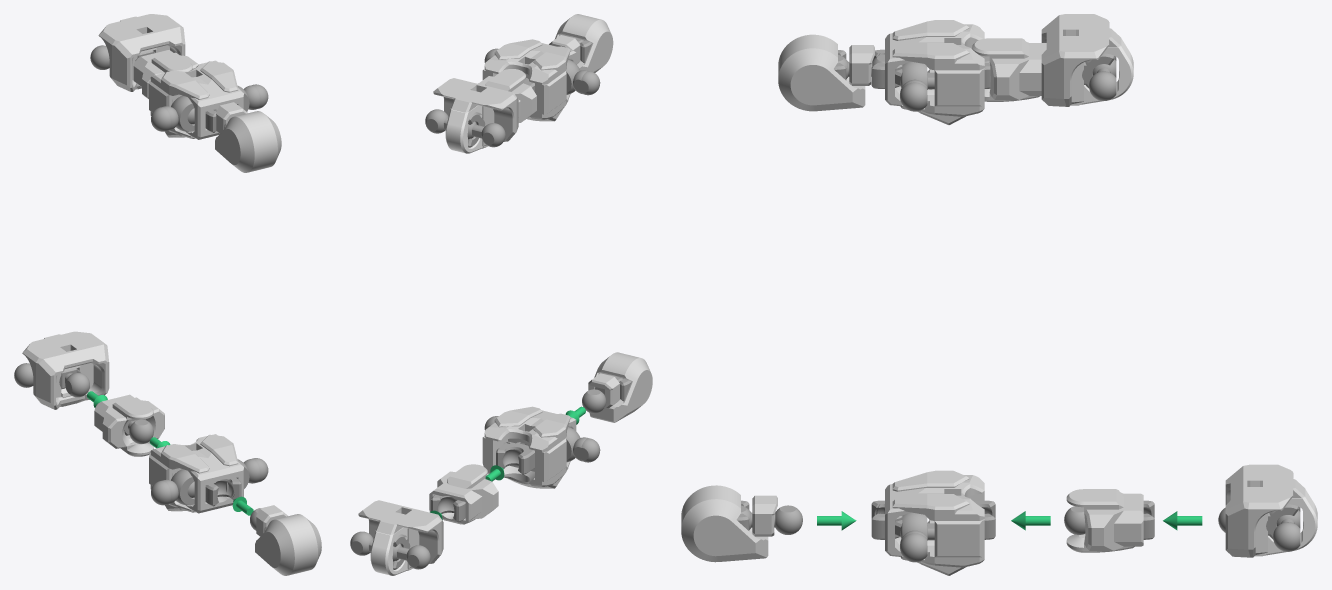
File: attach_body.glb
3 views of the same model, side by side, from view 1: azimuth 30°, elevation 25°; view 2: azimuth 150°, elevation 25°; view 3: azimuth 270°, elevation 25° (orthographic). The views are drawn at different scales.
Visible parts, largest first — view 1: Body1.056, Body1.039, Body17.005, Body1.069, Body1.052, Body17.007, Body1.063, Body17.006, Body1.046, Body17.004, Body1.058, Body1.061 (+11 smaller); view 2: Body1.039, Body1.056, Body1.069, Body17.007, Body17.005, Body1.063, Body1.052, Body17.006, Body17.004, Body1.036, Body1.053, Body3.006 (+13 smaller); view 3: Body1.056, Body1.039, Body1.069, Body1.052, Body17.006, Body17.005, Body1.063, Body17.004, Body1.046, Body3.004, Body3.006, Body17.007 (+13 smaller).
Boxes of the visible parts, x1,y1,x2,y2 form: Body1.056: (22,331,109,409); Body1.039: (98,14,185,91); Body17.005: (159,62,243,139); Body1.069: (255,514,321,575); Body1.052: (215,111,281,172); Body17.007: (159,436,243,513); Body1.063: (94,394,161,456); Body17.006: (150,434,243,513); Body1.046: (133,50,195,86); Body17.004: (150,60,236,138); Body1.058: (102,400,164,454); Body1.061: (151,469,194,505); Body1.039: (433,78,518,148); Body1.056: (358,500,443,570); Body1.069: (589,352,652,422); Body17.007: (488,406,576,488); Body17.005: (488,39,576,121); Body1.063: (429,464,487,524); Body1.052: (554,14,613,72); Body17.006: (484,408,572,486); Body17.004: (484,39,570,119); Body1.036: (425,109,505,147); Body1.053: (350,531,430,569); Body3.006: (482,436,566,481); Body1.056: (1225,464,1305,557); Body1.039: (1041,14,1121,106); Body1.069: (681,485,768,562); Body1.052: (778,34,865,111); Body17.006: (885,470,984,567); Body17.005: (885,22,984,124); Body1.063: (1066,489,1143,552); Body17.004: (893,20,984,116); Body1.046: (972,38,1046,101); Body3.004: (934,68,984,106); Body3.006: (934,519,984,557); Body17.007: (885,473,984,575).
Bounding box in the file's own units: 31.98 × 118 × 128.
